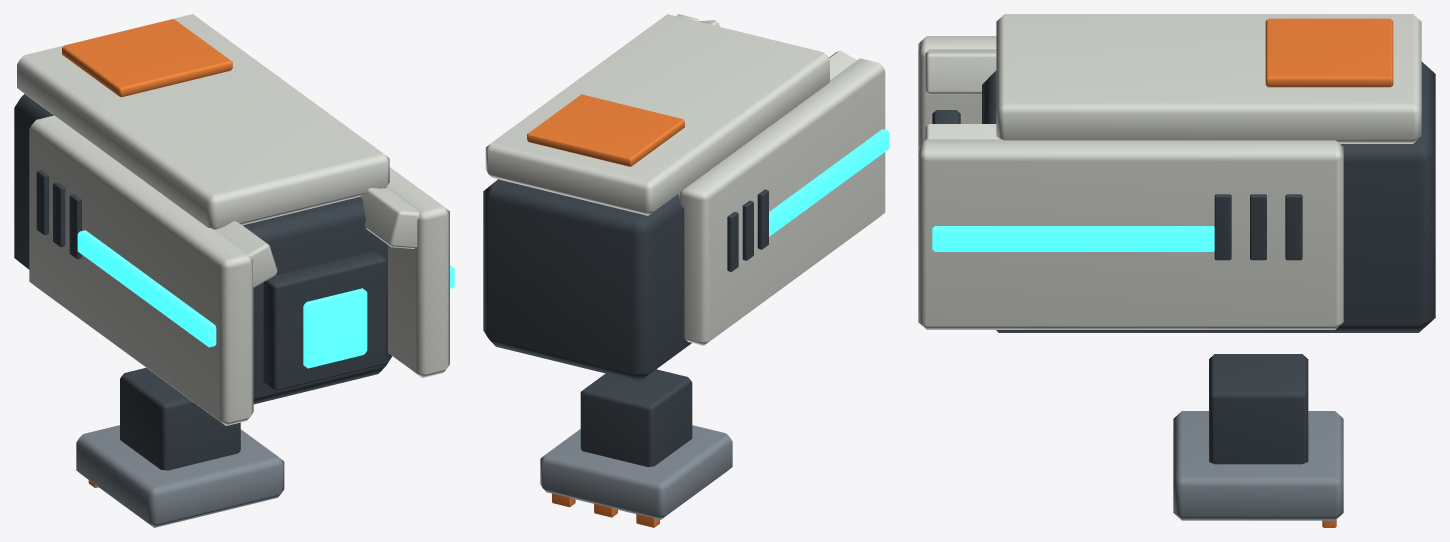
File: VXAUX_PULSE_GUN_v002.fbx
3 renders of one model, left to right at view 1: azimuth 30°, elevation 25°; view 2: azimuth 150°, elevation 25°; view 3: azimuth 270°, elevation 25°, orthographic. The views are drawn at different scales.
Visible parts, largest first — view 1: Top armor, Emitter shell, Universal mounting shoe, Pulse receiver, Emitter recess, Emitter shell.001, Orange service hatch, Mount neck, Emitter lens, Cyan emitter rail, Emitter cheek slope.001, Emitter cheek slope (+3 smaller); view 2: Pulse receiver, Top armor, Emitter shell, Universal mounting shoe, Mount neck, Orange service hatch, Cyan emitter rail, Pulse heat vent, Pulse heat vent.002, Pulse heat vent.001; view 3: Emitter shell.001, Top armor, Pulse receiver, Universal mounting shoe, Mount neck, Orange service hatch, Cyan emitter rail.001, Emitter shell, Emitter cheek slope, Pulse heat vent.003, Pulse heat vent.005, Emitter cheek slope.001 (+1 smaller).
Boxes of the visible parts, x1,y1,x2,y2 form: Top armor: (17, 14, 389, 229); Emitter shell: (29, 115, 253, 425); Universal mounting shoe: (76, 425, 284, 527); Pulse receiver: (14, 94, 392, 404); Emitter recess: (263, 251, 386, 391); Emitter shell.001: (386, 167, 449, 377); Orange service hatch: (62, 19, 232, 97); Mount neck: (120, 368, 240, 470); Emitter lens: (303, 288, 367, 368); Cyan emitter rail: (77, 230, 216, 347); Emitter cheek slope.001: (360, 187, 419, 248); Emitter cheek slope: (214, 221, 277, 287); Pulse receiver: (483, 179, 691, 381); Top armor: (485, 14, 829, 215); Emitter shell: (678, 58, 885, 345); Universal mounting shoe: (540, 425, 732, 519); Mount neck: (580, 369, 692, 466); Orange service hatch: (527, 94, 684, 166); Cyan emitter rail: (769, 129, 889, 236); Pulse heat vent: (757, 189, 768, 249); Pulse heat vent.002: (727, 211, 738, 271); Pulse heat vent.001: (742, 200, 753, 260); Emitter shell.001: (918, 139, 1343, 329); Top armor: (996, 14, 1421, 143); Pulse receiver: (982, 61, 1435, 332); Universal mounting shoe: (1173, 411, 1343, 520); Mount neck: (1209, 354, 1308, 464); Orange service hatch: (1265, 18, 1393, 87); Cyan emitter rail.001: (932, 226, 1214, 251); Emitter shell: (918, 36, 996, 146); Emitter cheek slope: (925, 49, 996, 94); Pulse heat vent.003: (1214, 194, 1231, 260); Pulse heat vent.005: (1285, 194, 1302, 260); Emitter cheek slope.001: (925, 124, 999, 139).
Bounding box in the file's own units: 21.7 × 35.15 × 36.5.
